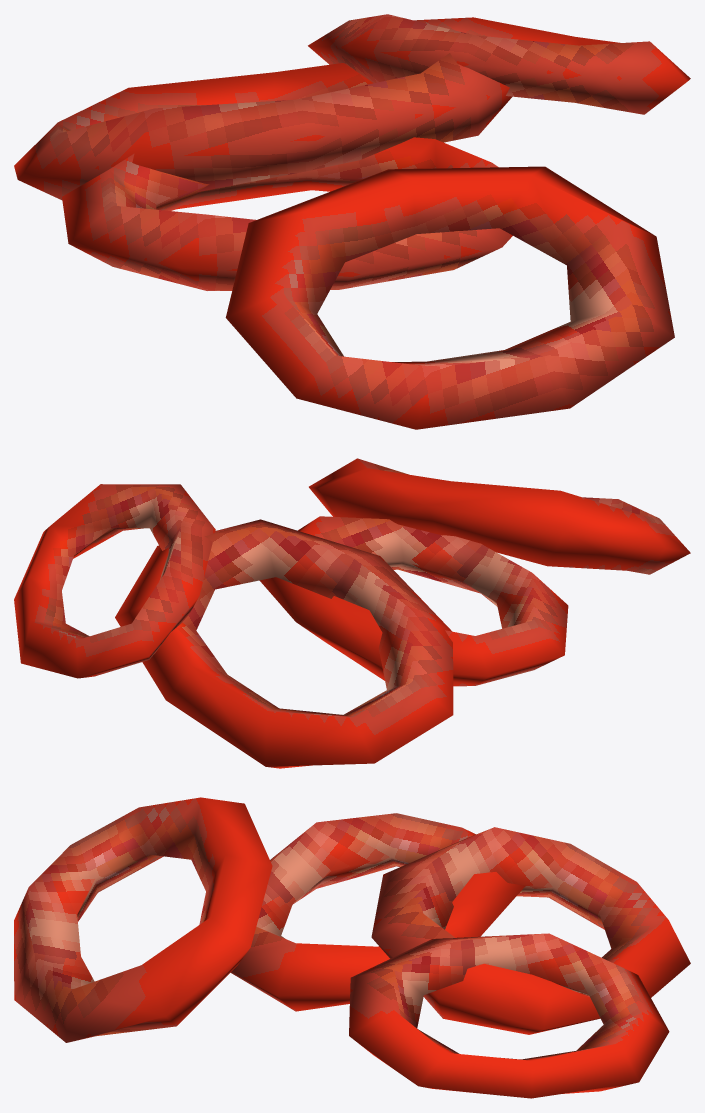
File: Sliced_Pepper.fbx
3 views of the same model, one above another, from view 1: azimuth 30°, elevation 25°; view 2: azimuth 150°, elevation 25°; view 3: azimuth 270°, elevation 25° (orthographic). The views are drawn at different scales.
Visible parts, largest first — view 1: Slicedpepper; view 2: Slicedpepper; view 3: Slicedpepper.
Part boxes in pixels (left/top/right/bottom): Slicedpepper: left=14, top=14, right=690, bottom=429; Slicedpepper: left=14, top=458, right=690, bottom=768; Slicedpepper: left=14, top=797, right=690, bottom=1098.
Bounding box in the file's own units: 22.88 × 6.2 × 24.46.
